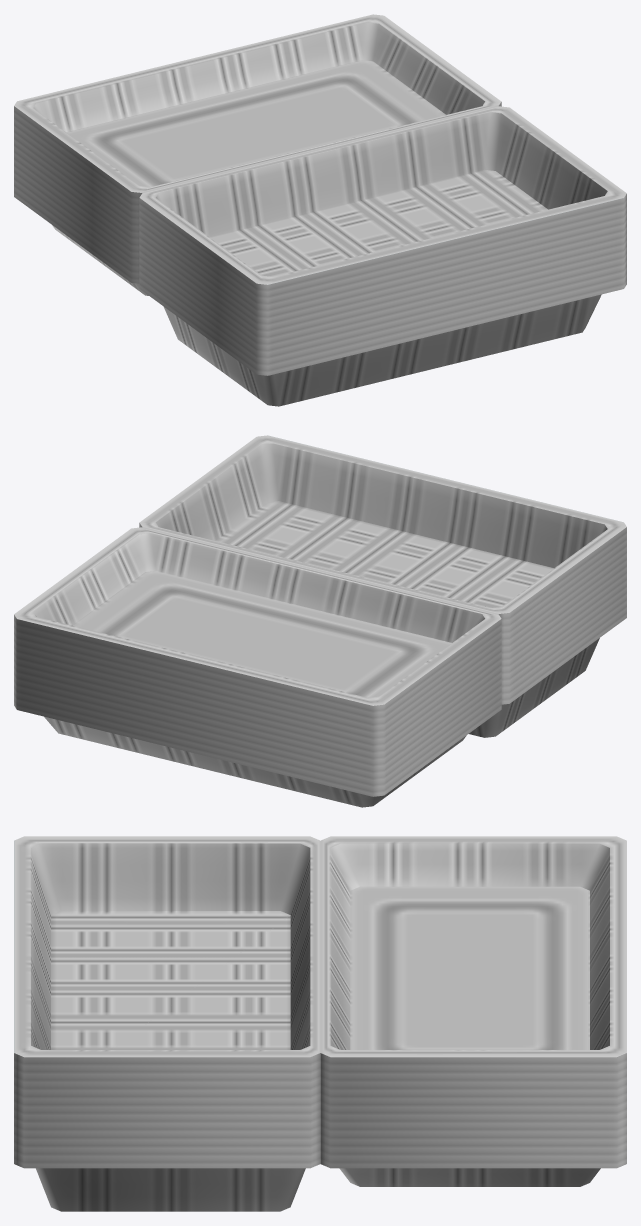
The model's file is jsf_Pack_Empty_Set.fbx.
The picture shows the model from 3 angles, top to bottom: view 1: azimuth 30°, elevation 25°; view 2: azimuth 150°, elevation 25°; view 3: azimuth 270°, elevation 25°; orthographic projection. The views are drawn at different scales.
Visible parts, largest first — view 1: jsf_Pack_Empty_Set; view 2: jsf_Pack_Empty_Set; view 3: jsf_Pack_Empty_Set.
Part boxes in pixels (bbox=[...]): jsf_Pack_Empty_Set: bbox=[14, 14, 626, 406]; jsf_Pack_Empty_Set: bbox=[14, 435, 626, 807]; jsf_Pack_Empty_Set: bbox=[14, 836, 626, 1211].
Bounding box in the file's own units: 21.3 × 7.65 × 25.
